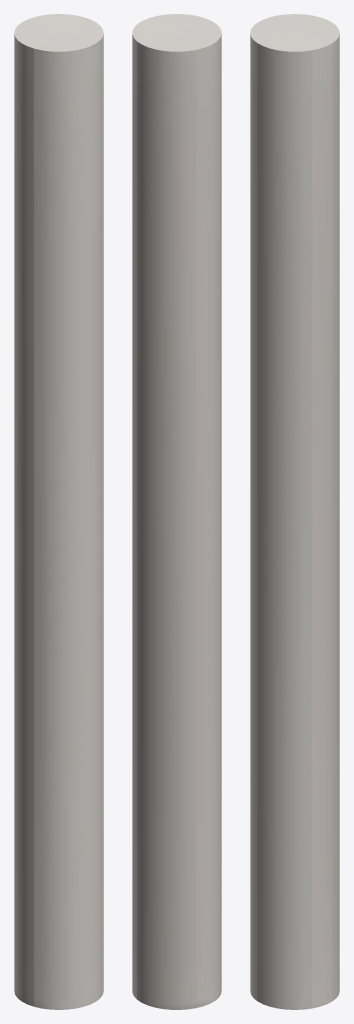
The model's file is frame__rear_axle.glb.
The picture shows the model from 3 angles, left to right: view 1: azimuth 90°, elevation 25°; view 2: azimuth 150°, elevation 25°; view 3: azimuth 270°, elevation 25°; orthographic projection.
Parts seen in each view (by area): view 1: world; view 2: world; view 3: world.
Boxes of the visible parts, x1=… form: world: x1=14, y1=14, x2=103, y2=1009; world: x1=132, y1=14, x2=221, y2=1009; world: x1=250, y1=14, x2=339, y2=1009.
Bounding box in the file's own units: 0.022 × 0.26 × 0.022.
Materials: 1 (1 with a texture image).
